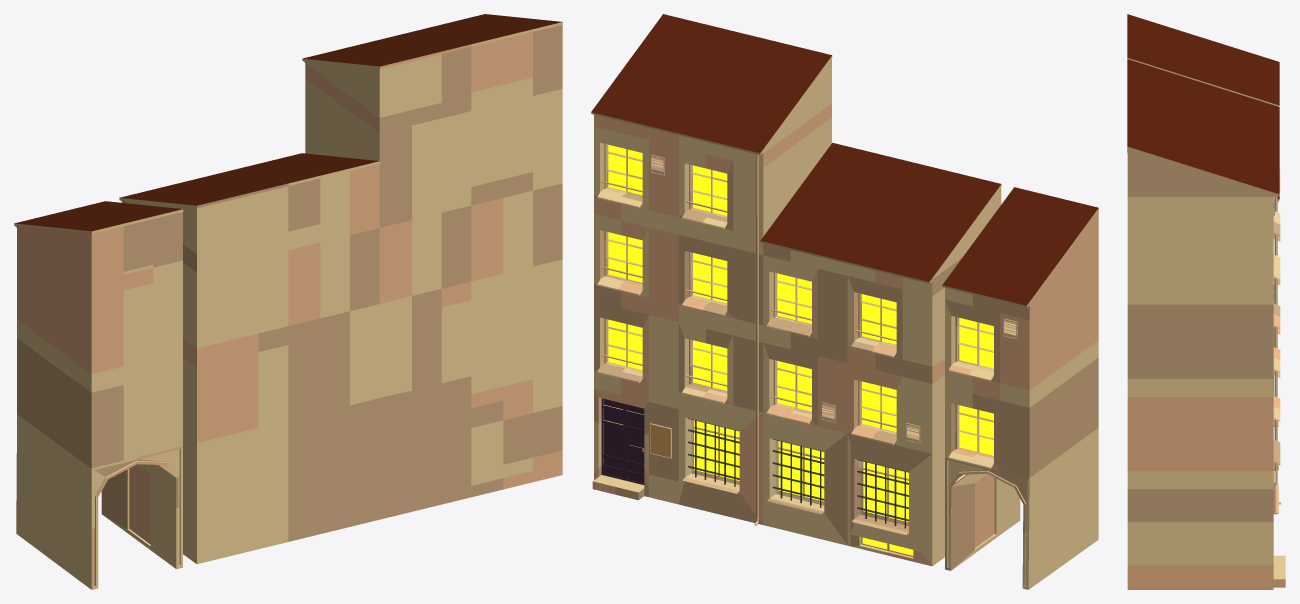
Rendered from house.fbx.
3 views of the same model, side by side, from view 1: azimuth 30°, elevation 25°; view 2: azimuth 150°, elevation 25°; view 3: azimuth 270°, elevation 25° (orthographic). The views are drawn at different scales.
Visible parts, largest first — view 1: pasted__polySurface7, pasted__polySurface2, polySurface9, polySurface10, pasted__polySurface6, pasted__polySurface1, pasted__polySurface4, polySurface8, polySurface4, polySurface5, polySurface2, polySurface7 (+10 smaller); view 2: polySurface9, pasted__polySurface7, polySurface10, pasted__polySurface2, polySurface8, pCube10, pCube4, pCube11, pCube8, pCube3, pasted__polySurface6, polySurface2 (+15 smaller); view 3: polySurface2, pasted__polySurface1, pasted__polySurface5, polySurface1, pCube3, pCube11, pCube4, pCylinder9.
Part boxes in pixels (bbox=[...]): pasted__polySurface7: bbox=[16, 212, 182, 373]; pasted__polySurface2: bbox=[304, 47, 471, 209]; polySurface9: bbox=[16, 414, 182, 589]; polySurface10: bbox=[17, 320, 182, 468]; pasted__polySurface6: bbox=[121, 186, 288, 348]; pasted__polySurface1: bbox=[471, 25, 562, 186]; pasted__polySurface4: bbox=[288, 164, 379, 325]; polySurface8: bbox=[183, 421, 288, 564]; polySurface4: bbox=[379, 376, 471, 519]; polySurface5: bbox=[288, 398, 379, 541]; polySurface2: bbox=[471, 354, 562, 497]; polySurface7: bbox=[183, 326, 288, 442]; polySurface9: bbox=[945, 428, 1098, 589]; pasted__polySurface7: bbox=[945, 209, 1098, 390]; polySurface10: bbox=[945, 340, 1098, 477]; pasted__polySurface2: bbox=[678, 57, 831, 237]; polySurface8: bbox=[847, 433, 944, 566]; pCube10: bbox=[845, 163, 1001, 283]; pCube4: bbox=[676, 34, 832, 155]; pCube11: bbox=[942, 187, 1098, 307]; pCube8: bbox=[760, 142, 916, 263]; pCube3: bbox=[591, 14, 747, 134]; pasted__polySurface6: bbox=[847, 185, 1001, 366]; polySurface2: bbox=[592, 372, 678, 504]; polySurface2: bbox=[1127, 471, 1285, 589]; pasted__polySurface1: bbox=[1127, 147, 1280, 286]; pasted__polySurface5: bbox=[1127, 286, 1280, 378]; polySurface1: bbox=[1127, 379, 1280, 471]; pCube3: bbox=[1127, 103, 1279, 196]; pCube11: bbox=[1127, 14, 1279, 106]; pCube4: bbox=[1127, 59, 1279, 150]; pCylinder9: bbox=[1274, 195, 1280, 504].
Bounding box in the file's own units: 20.21 × 18.58 × 6.02.
